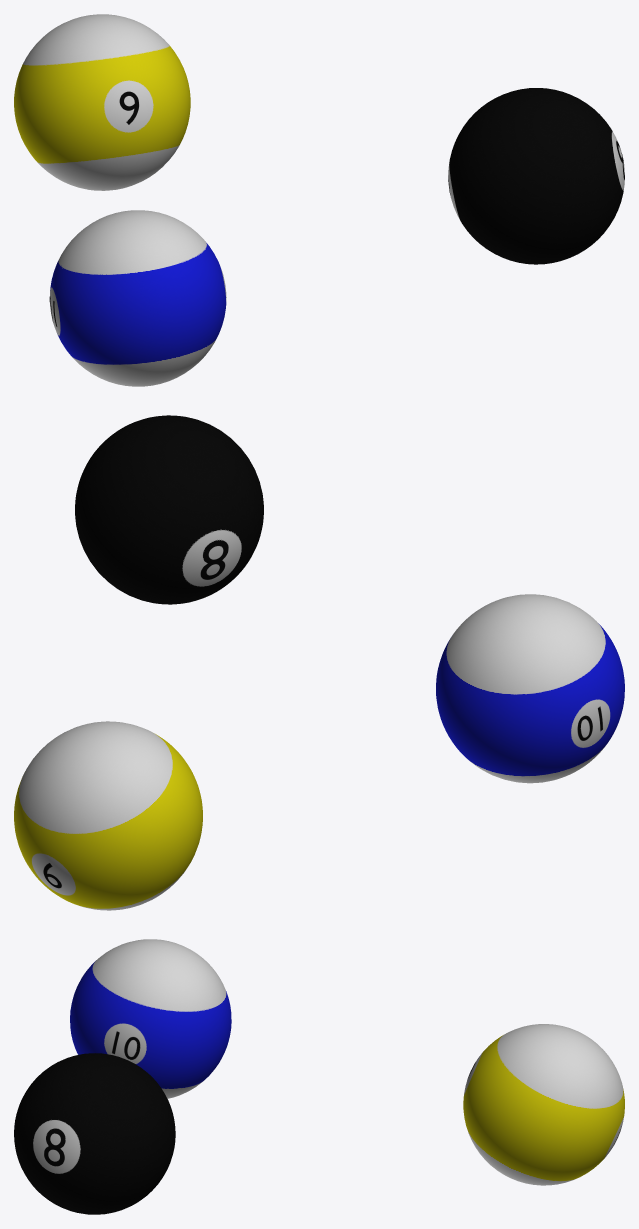
File: poolballs.glb
3 renders of one model, top to bottom at view 1: azimuth 30°, elevation 25°; view 2: azimuth 150°, elevation 25°; view 3: azimuth 270°, elevation 25°, orthographic. The views are drawn at different scales.
Visible parts, largest first — view 1: 8ball, 10ball, 9ball; view 2: 9ball, 8ball, 10ball; view 3: 9ball, 8ball, 10ball.
Part boxes in pixels (x1,y1,x2,y2): 8ball: (448, 88, 624, 264); 10ball: (49, 210, 226, 386); 9ball: (14, 14, 190, 190); 9ball: (14, 721, 202, 910); 8ball: (75, 415, 263, 604); 10ball: (436, 594, 624, 783); 9ball: (463, 1024, 624, 1185); 8ball: (14, 1053, 175, 1214); 10ball: (70, 939, 231, 1098).
Bounding box in the file's own units: 6.8 × 2.75 × 7.56.
Materials: 3 (3 with a texture image).
